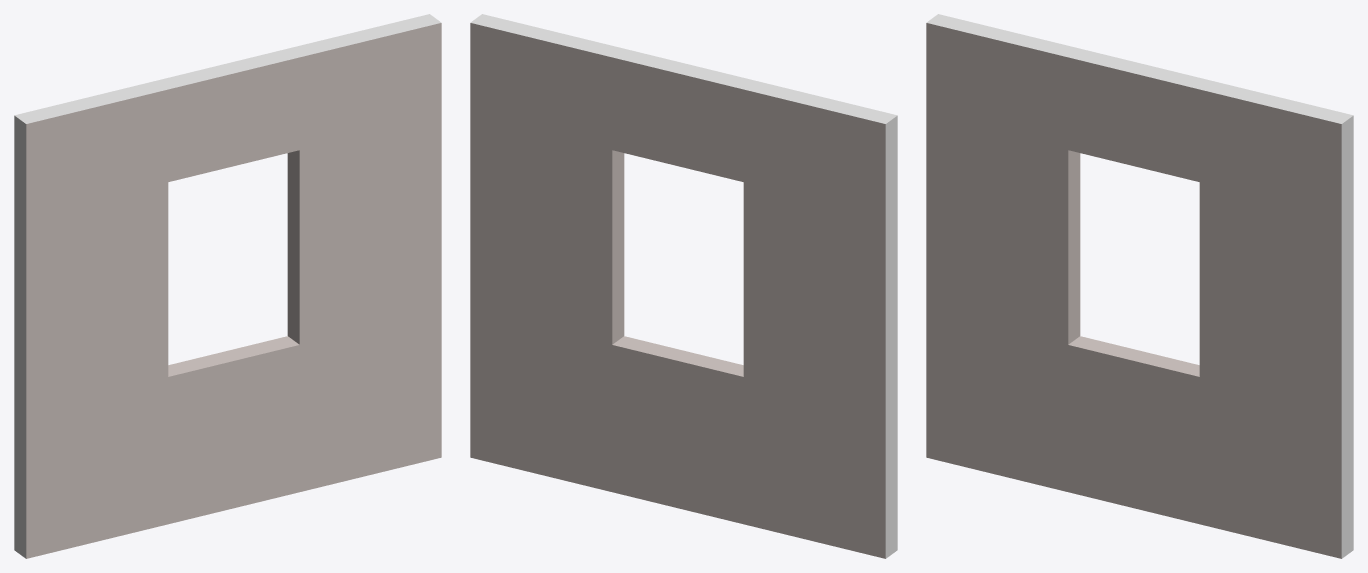
File: wall_091.fbx
3 renders of one model, left to right at view 1: azimuth 30°, elevation 25°; view 2: azimuth 150°, elevation 25°; view 3: azimuth 330°, elevation 25°, orthographic.
Parts seen in each view (by area): view 1: wall_091; view 2: wall_091; view 3: wall_091.
Boxes of the visible parts, x1,y1,x2,y2 form: wall_091: (14, 14, 441, 558); wall_091: (470, 14, 897, 558); wall_091: (926, 14, 1353, 558).
Bounding box in the file's own units: 400 × 20 × 400.
